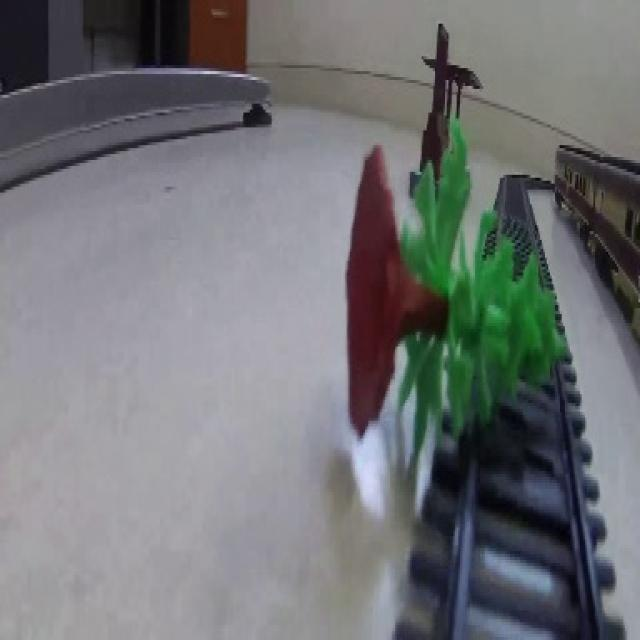tree: (322, 139, 567, 437)
